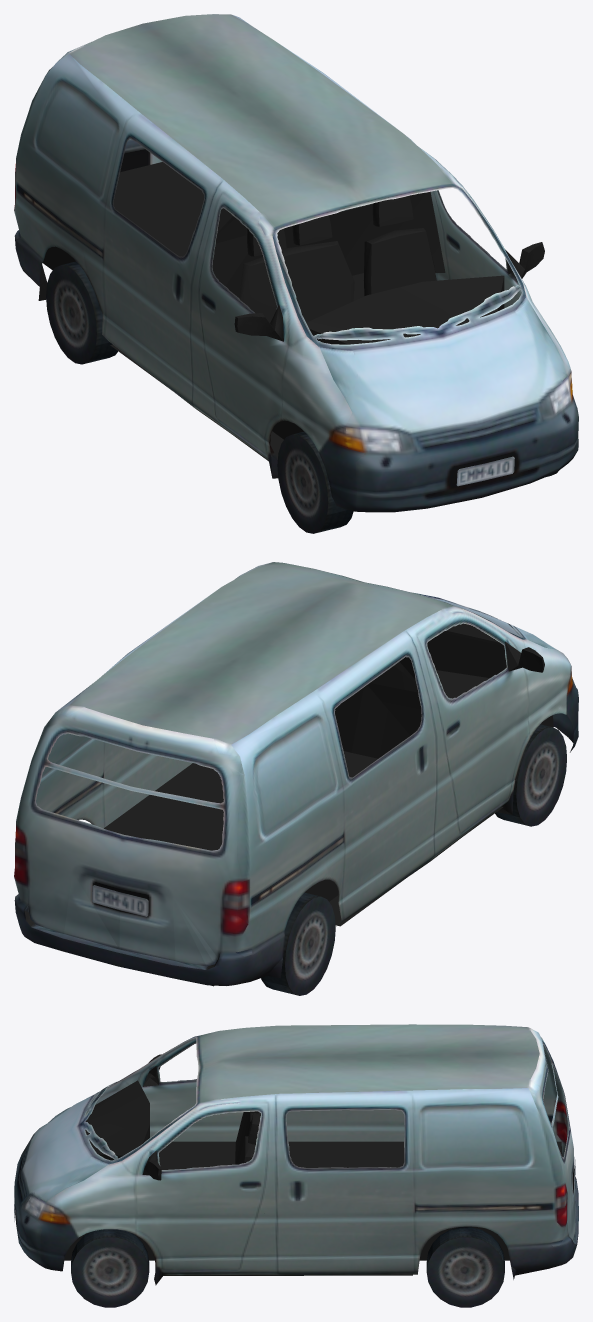
File: lwpg004.obj
3 renders of one model, top to bottom at view 1: azimuth 30°, elevation 25°; view 2: azimuth 150°, elevation 25°; view 3: azimuth 270°, elevation 25°, orthographic. The views are drawn at different scales.
Parts seen in each view (by area): view 1: lwpg004; view 2: lwpg004; view 3: lwpg004.
Part boxes in pixels (<box>): lwpg004: <box>14,14,578,533</box>; lwpg004: <box>14,562,578,995</box>; lwpg004: <box>14,1024,578,1307</box>.
Size of the model in its own units: 2.46 by 2.08 by 5.08.
Materials: 2 (1 with a texture image).
